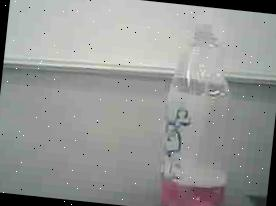hazard: (152, 3, 248, 206)
